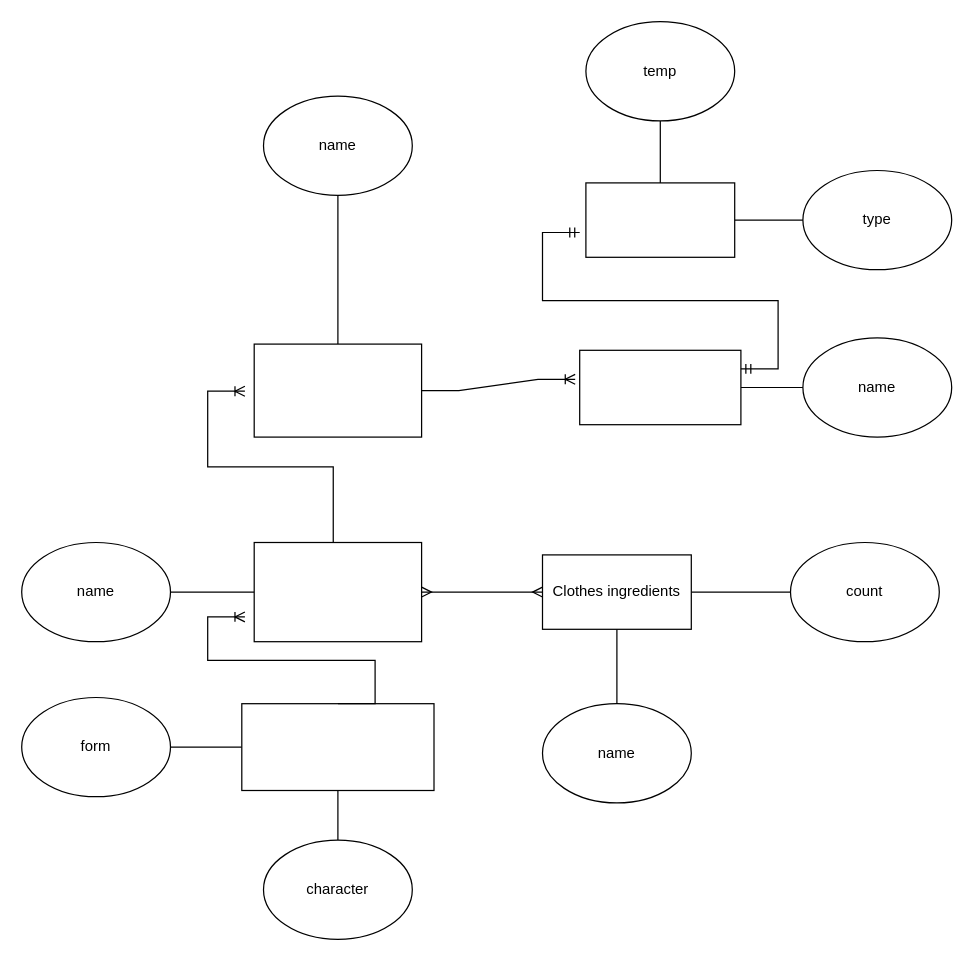
The diagram is 973 pixels wide and 961 high, and some of its shapes have lost their labels. The centre of each missing label's shape, as x and y in pixels:
"Clothes" goes at point 337,591.
"Clothes type" goes at point 337,746.
"Creature" goes at point 337,390.
"Place" goes at point 659,387.
"Weather" goes at point 660,219.
